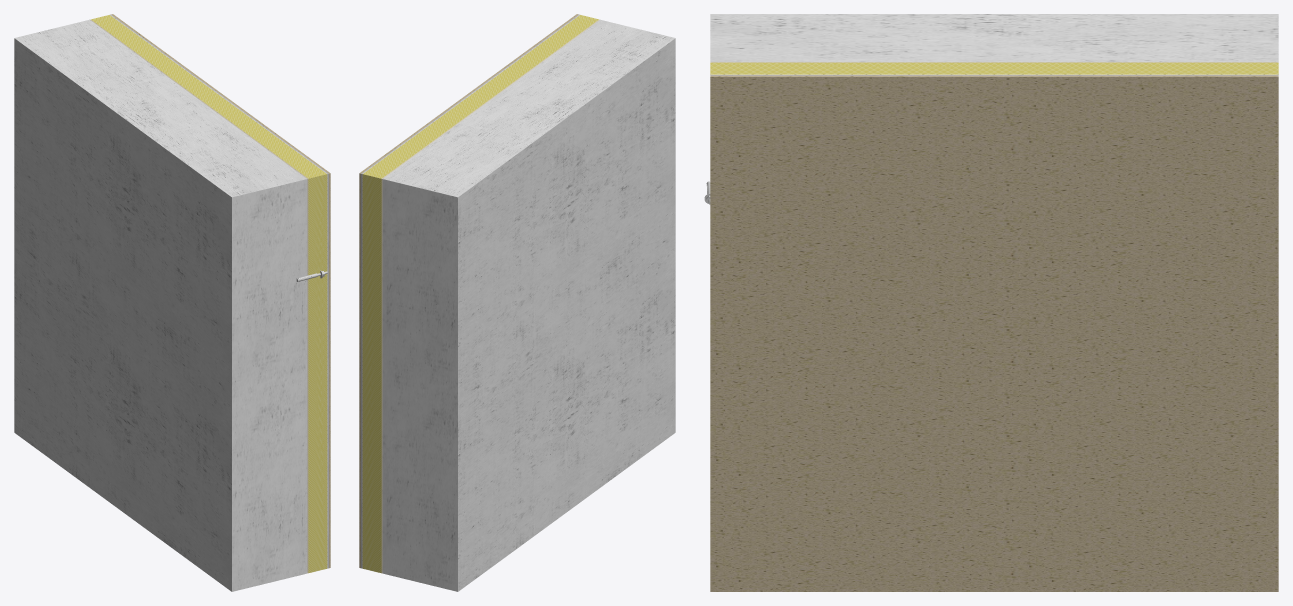
File: foam-insulation.glb
3 renders of one model, left to right at view 1: azimuth 30°, elevation 25°; view 2: azimuth 150°, elevation 25°; view 3: azimuth 270°, elevation 25°, orthographic. The views are drawn at different scales.
Visible parts, largest first — view 1: 基层墙体, 保温板, 涂料或面砖饰面, 抹面层, 胶粘剂, 玻纤网或钢丝网; view 2: 基层墙体, 保温板, 涂料或面砖饰面, 抹面层, 胶粘剂, 玻纤网或钢丝网; view 3: 涂料或面砖饰面, 基层墙体, 保温板.
Part boxes in pixels (x1,y1,x2,y2): 基层墙体: [14, 19, 307, 591]; 保温板: [91, 15, 327, 573]; 涂料或面砖饰面: [111, 14, 330, 568]; 抹面层: [110, 14, 328, 568]; 胶粘剂: [90, 19, 308, 573]; 玻纤网或钢丝网: [110, 15, 327, 568]; 基层墙体: [382, 19, 675, 591]; 保温板: [362, 15, 598, 573]; 涂料或面砖饰面: [359, 14, 578, 568]; 抹面层: [361, 14, 579, 568]; 胶粘剂: [381, 19, 599, 573]; 玻纤网或钢丝网: [362, 15, 579, 568]; 涂料或面砖饰面: [710, 75, 1278, 591]; 基层墙体: [710, 14, 1278, 62]; 保温板: [710, 62, 1278, 74].
Size of the model in its own units: 0.262 by 1 by 1.01.
Materials: 7 (5 with a texture image).
